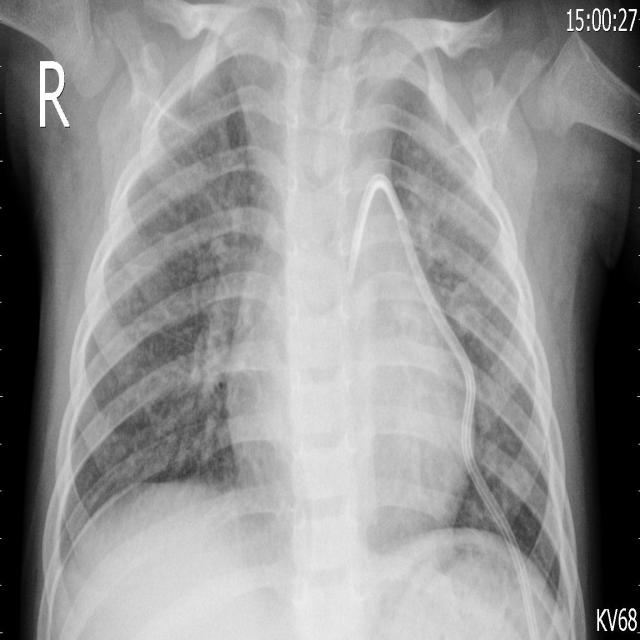low-pneumonia: (145, 181, 264, 476), (411, 102, 515, 373), (471, 332, 547, 515)
